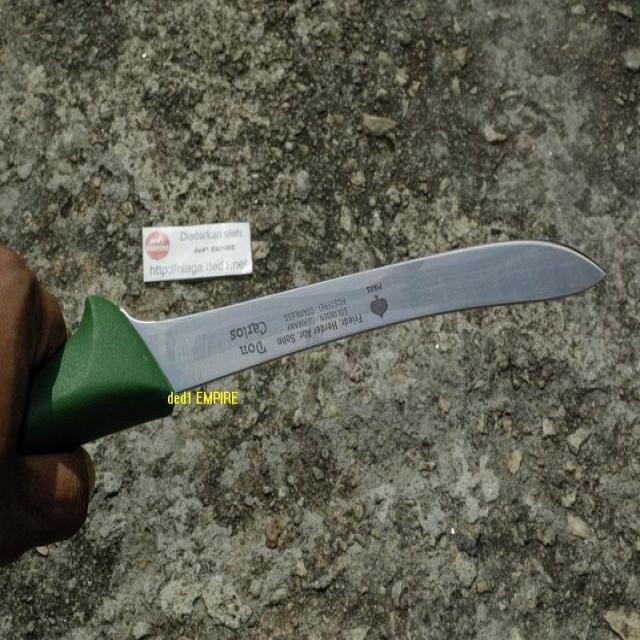Pisau: (66, 230, 614, 453)
